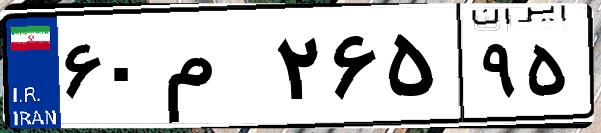0: (110, 28, 158, 98)
2: (270, 28, 330, 110)
5: (385, 28, 445, 110), (525, 38, 570, 115)
6: (330, 28, 385, 110), (57, 26, 110, 100)
9: (475, 38, 525, 113)
م: (158, 20, 270, 120)
